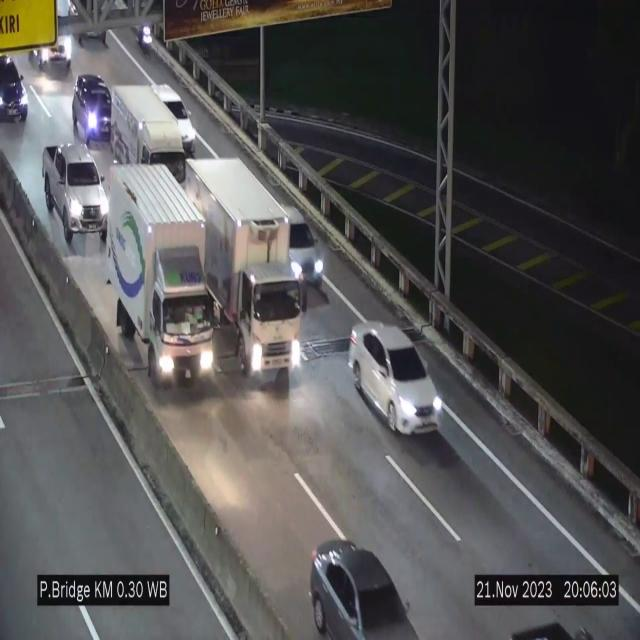Car: (349, 322, 445, 434), (310, 542, 422, 638), (45, 142, 105, 232), (148, 71, 208, 158), (269, 200, 327, 289), (0, 39, 40, 132), (70, 73, 118, 150)
Motorcycle: (137, 14, 155, 59)
Truck: (189, 158, 307, 383), (105, 163, 206, 385), (110, 86, 192, 212)
